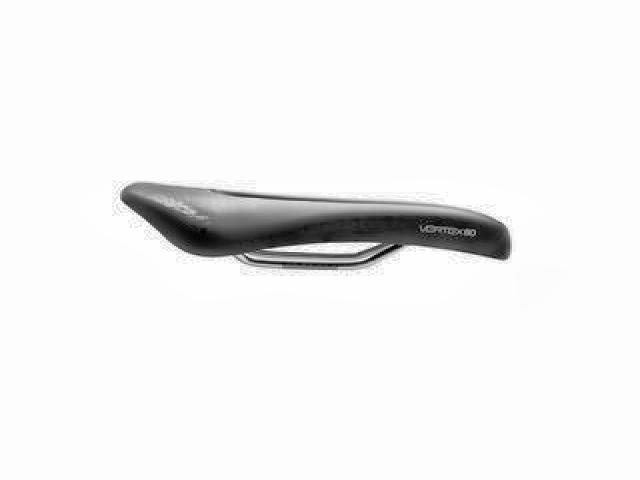saddle: (114, 177, 519, 276)
